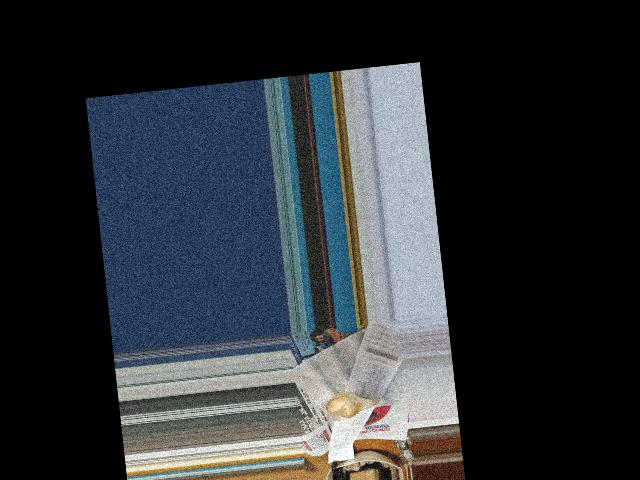onion: (326, 391, 369, 418)
